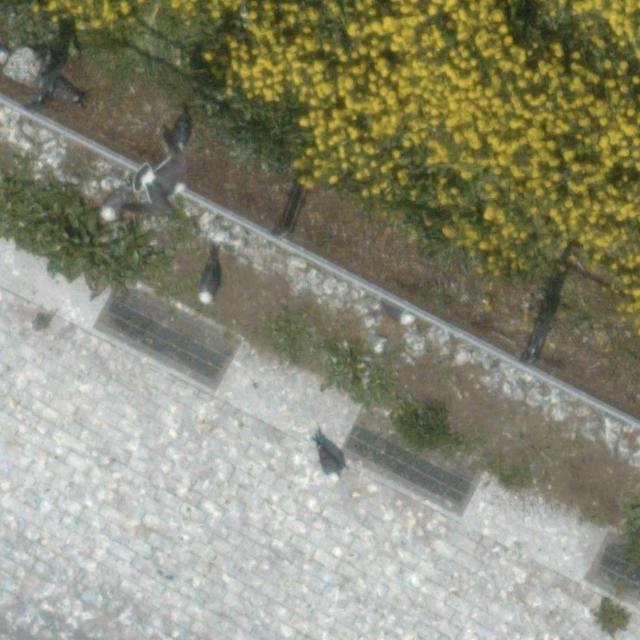F: (141, 136, 191, 214)
umineko: (315, 436, 346, 482), (103, 192, 126, 219), (199, 268, 217, 301), (386, 303, 414, 323)
